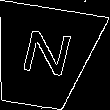N_S: (13, 28, 74, 86)
